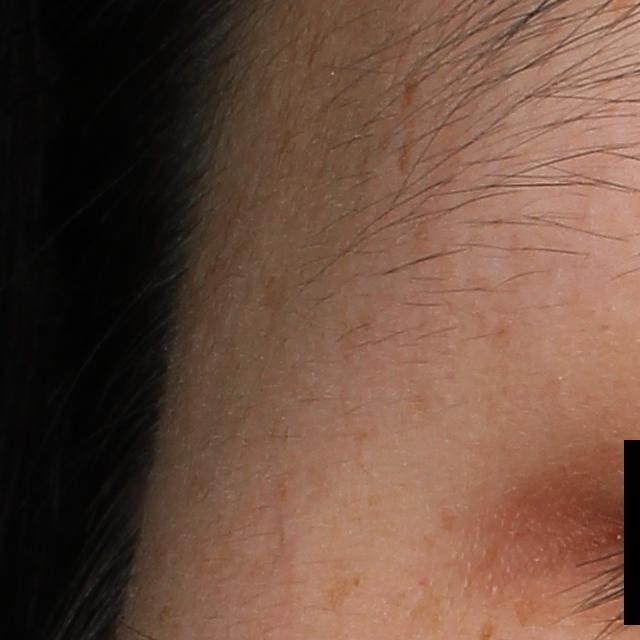melasma: (398, 68, 429, 182), (321, 561, 367, 624), (506, 591, 563, 634), (436, 506, 459, 538)
